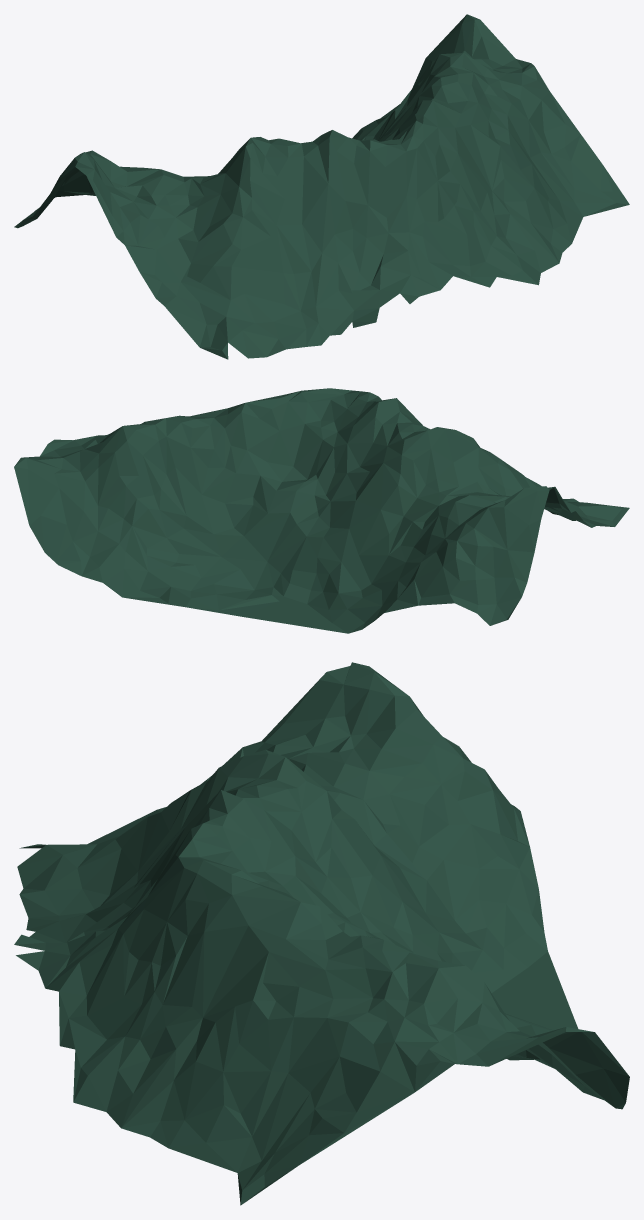
The model's file is SM_large_rock_47.fbx.
3 views of the same model, one above another, from view 1: azimuth 30°, elevation 25°; view 2: azimuth 150°, elevation 25°; view 3: azimuth 270°, elevation 25° (orthographic). The views are drawn at different scales.
Parts seen in each view (by area): view 1: large_rock_47; view 2: large_rock_47; view 3: large_rock_47.
Part boxes in pixels (x1,y1,x2,y2): large_rock_47: (14,14,629,359); large_rock_47: (14,388,629,633); large_rock_47: (14,662,629,1205).
Bounding box in the file's own units: 0.0167 × 0.00449 × 0.0121.
